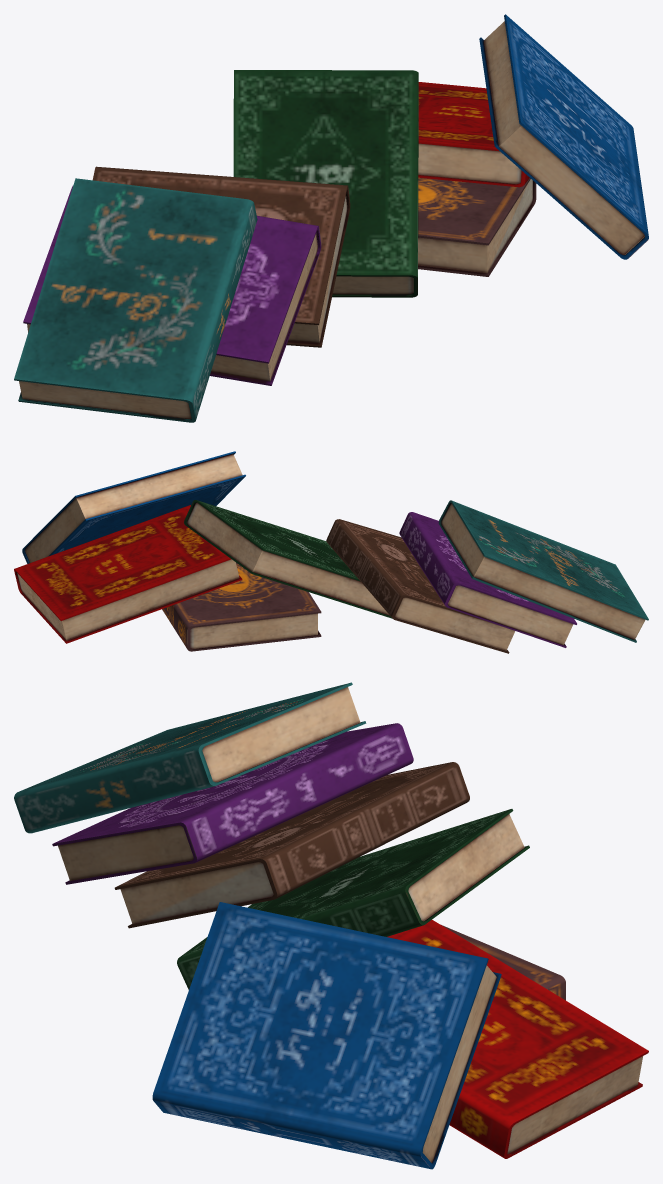
Rendered from sb_obj_DemonsCastle005_books03.fbx.
The picture shows the model from 3 angles, top to bottom: view 1: azimuth 30°, elevation 25°; view 2: azimuth 150°, elevation 25°; view 3: azimuth 270°, elevation 25°; orthographic projection. The views are drawn at different scales.
Parts seen in each view (by area): view 1: sb_obj_DemonsCastle005_books03; view 2: sb_obj_DemonsCastle005_books03; view 3: sb_obj_DemonsCastle005_books03.
Boxes of the visible parts, bbox=[...] form: sb_obj_DemonsCastle005_books03: bbox=[14, 14, 648, 422]; sb_obj_DemonsCastle005_books03: bbox=[14, 451, 648, 653]; sb_obj_DemonsCastle005_books03: bbox=[14, 682, 648, 1169].
Bounding box in the file's own units: 1.4 × 0.2606 × 0.9004.
Materials: 1 (1 with a texture image).
